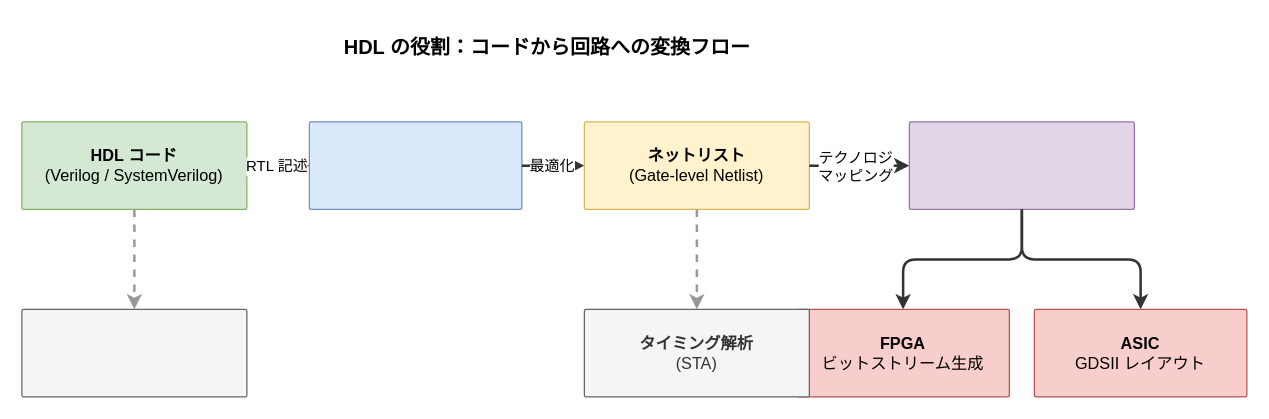
This 1269x419 diagram has some shape labels left out. The box of each missing label's shape, as (x1, y1, x2, y2) in pixels:
シミュレーション (機能検証): (21, 308, 247, 397)
論理合成 (Synthesis): (308, 121, 522, 209)
配置配線 (Place & Route): (908, 121, 1134, 209)
